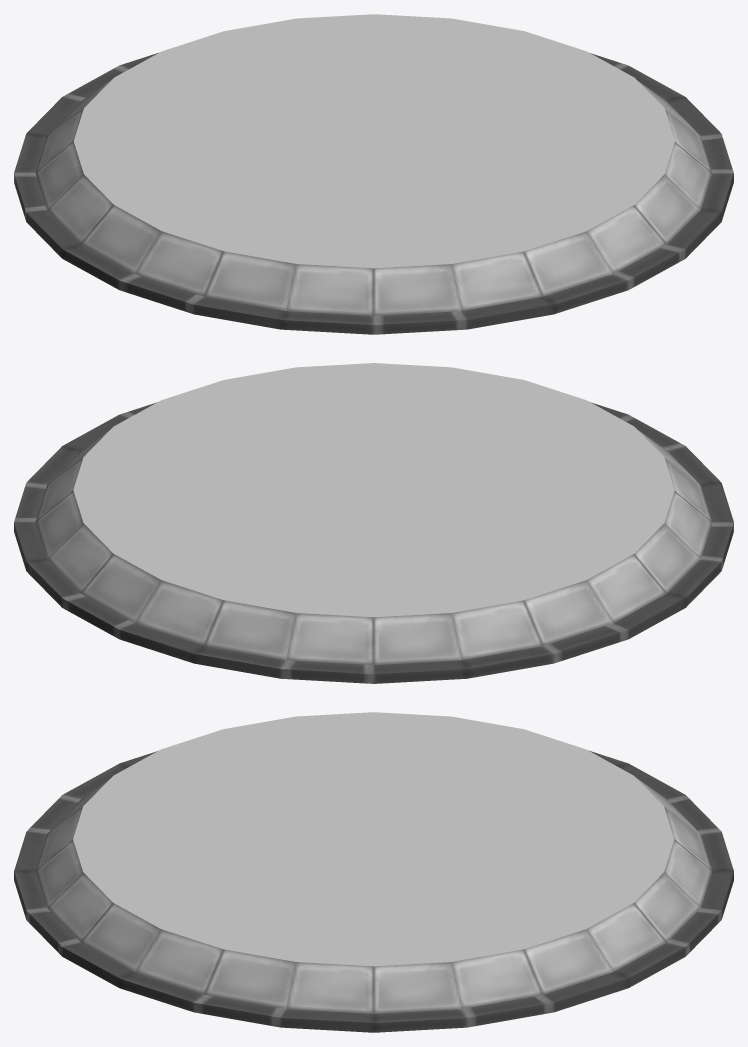
The model's file is MOL_Adapter_15_125.dae.
3 renders of one model, top to bottom at view 1: azimuth 30°, elevation 25°; view 2: azimuth 150°, elevation 25°; view 3: azimuth 270°, elevation 25°, orthographic.
Parts seen in each view (by area): view 1: polySurface56, Adapter_15_125; view 2: polySurface56, Adapter_15_125; view 3: polySurface56, Adapter_15_125.
Boxes of the visible parts, x1=… form: polySurface56: x1=73, y1=14, x2=674, y2=268; Adapter_15_125: x1=14, y1=52, x2=733, y2=334; polySurface56: x1=73, y1=363, x2=674, y2=617; Adapter_15_125: x1=14, y1=402, x2=733, y2=683; polySurface56: x1=73, y1=712, x2=674, y2=966; Adapter_15_125: x1=14, y1=750, x2=733, y2=1032.
Bounding box in the file's own units: 1.5 × 0.0955 × 1.5.
